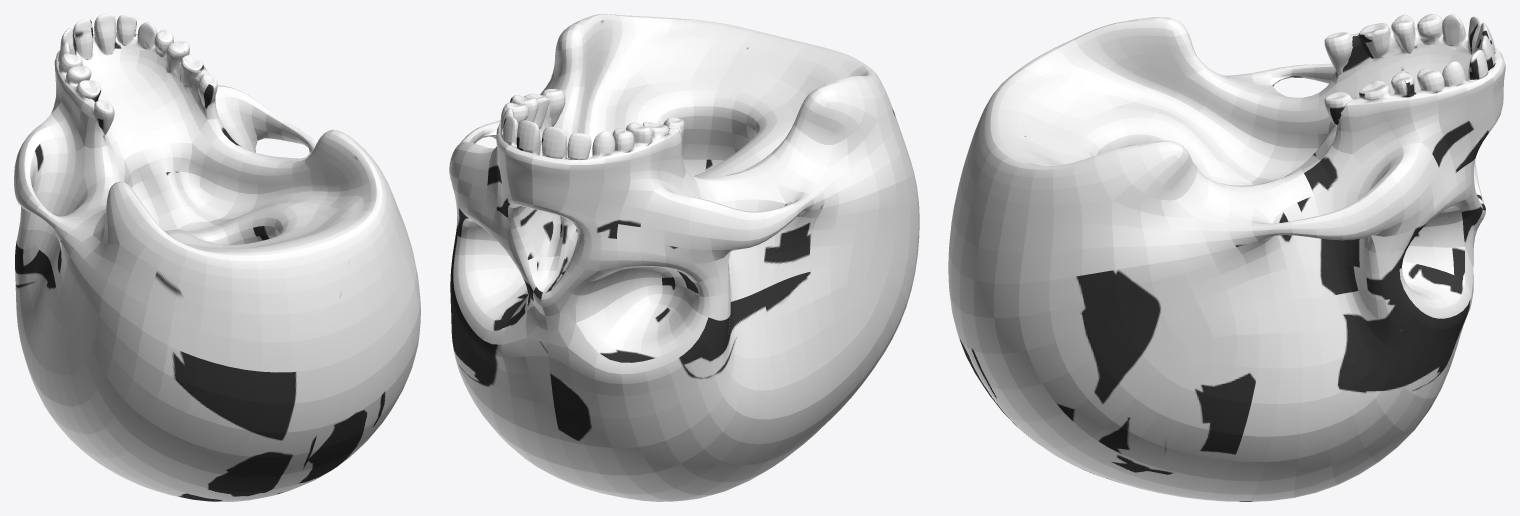
File: Skull_head_mid.obj
The picture shows the model from 3 angles, left to right: view 1: azimuth 30°, elevation 25°; view 2: azimuth 150°, elevation 25°; view 3: azimuth 270°, elevation 25°; orthographic projection. The views are drawn at different scales.
Parts seen in each view (by area): view 1: Human_Skull.062; view 2: Human_Skull.062; view 3: Human_Skull.062.
Part boxes in pixels (x1=…): Human_Skull.062: x1=14, y1=14, x2=420, y2=501; Human_Skull.062: x1=449, y1=14, x2=919, y2=501; Human_Skull.062: x1=948, y1=14, x2=1505, y2=501.
Size of the model in its own units: 5.68 by 6.68 by 7.54.
